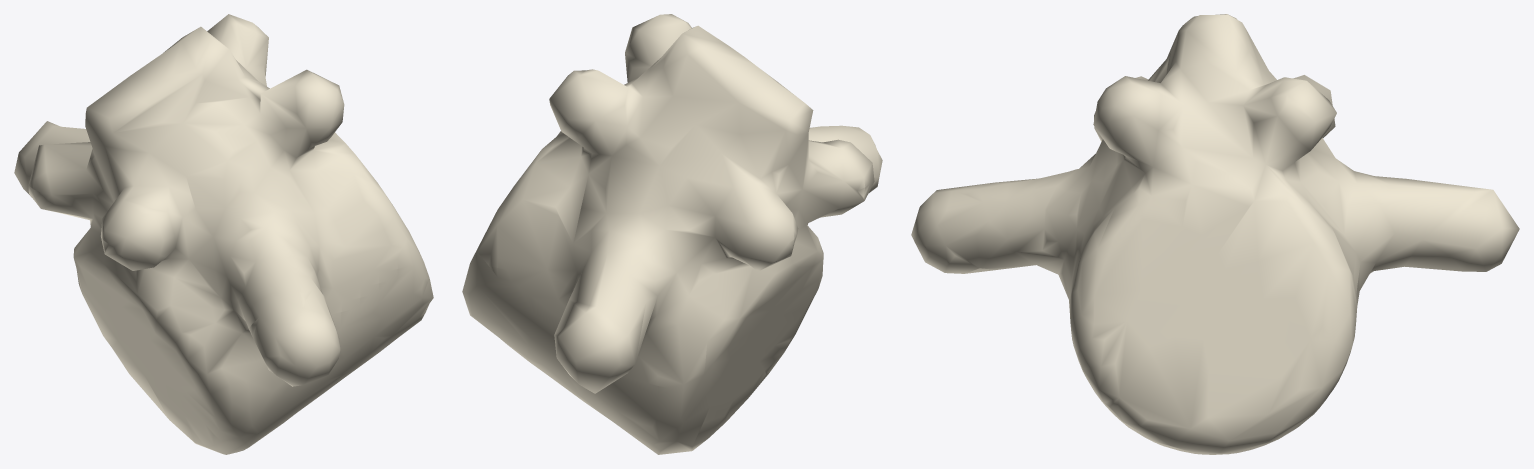
Rendered from cervical_4.glb.
3 renders of one model, left to right at view 1: azimuth 30°, elevation 25°; view 2: azimuth 150°, elevation 25°; view 3: azimuth 270°, elevation 25°, orthographic. The views are drawn at different scales.
Visible parts, largest first — view 1: geometry_0; view 2: geometry_0; view 3: geometry_0.
Boxes of the visible parts, x1,y1,x2,y2 form: geometry_0: (14, 14, 433, 454); geometry_0: (462, 14, 882, 454); geometry_0: (911, 14, 1519, 454).
Size of the model in its own units: 0.1425 by 0.1692 by 0.2124.
